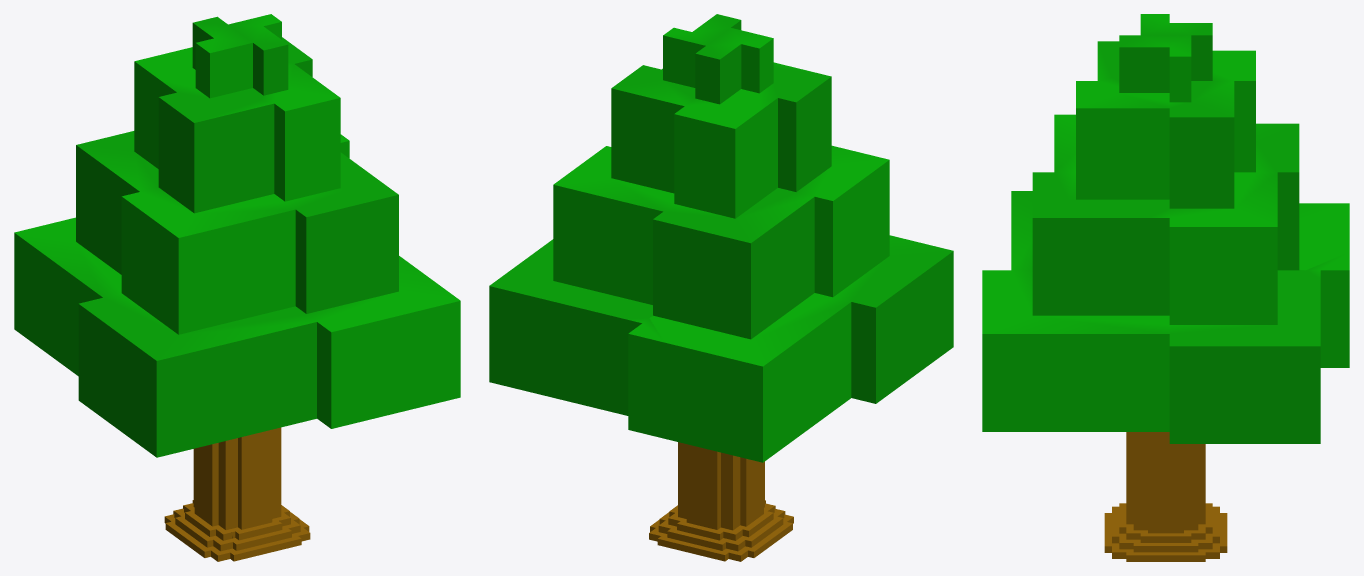
Rendered from tree02-3.fbx.
3 renders of one model, left to right at view 1: azimuth 30°, elevation 25°; view 2: azimuth 150°, elevation 25°; view 3: azimuth 270°, elevation 25°, orthographic.
Parts seen in each view (by area): view 1: Tree02-3, Tree02-Stem, Tree02-Root; view 2: Tree02-3, Tree02-Stem, Tree02-Root; view 3: Tree02-3, Tree02-Stem, Tree02-Root.
Part boxes in pixels (bbox=[...]): Tree02-3: bbox=[14, 14, 460, 457]; Tree02-Stem: bbox=[193, 427, 281, 529]; Tree02-Root: bbox=[164, 500, 310, 561]; Tree02-3: bbox=[489, 14, 953, 462]; Tree02-Stem: bbox=[678, 442, 764, 530]; Tree02-Root: bbox=[649, 500, 793, 561]; Tree02-3: bbox=[982, 14, 1349, 443]; Tree02-Stem: bbox=[1126, 432, 1205, 533]; Tree02-Root: bbox=[1104, 503, 1227, 561].
Size of the model in its own units: 510 by 770 by 510.
